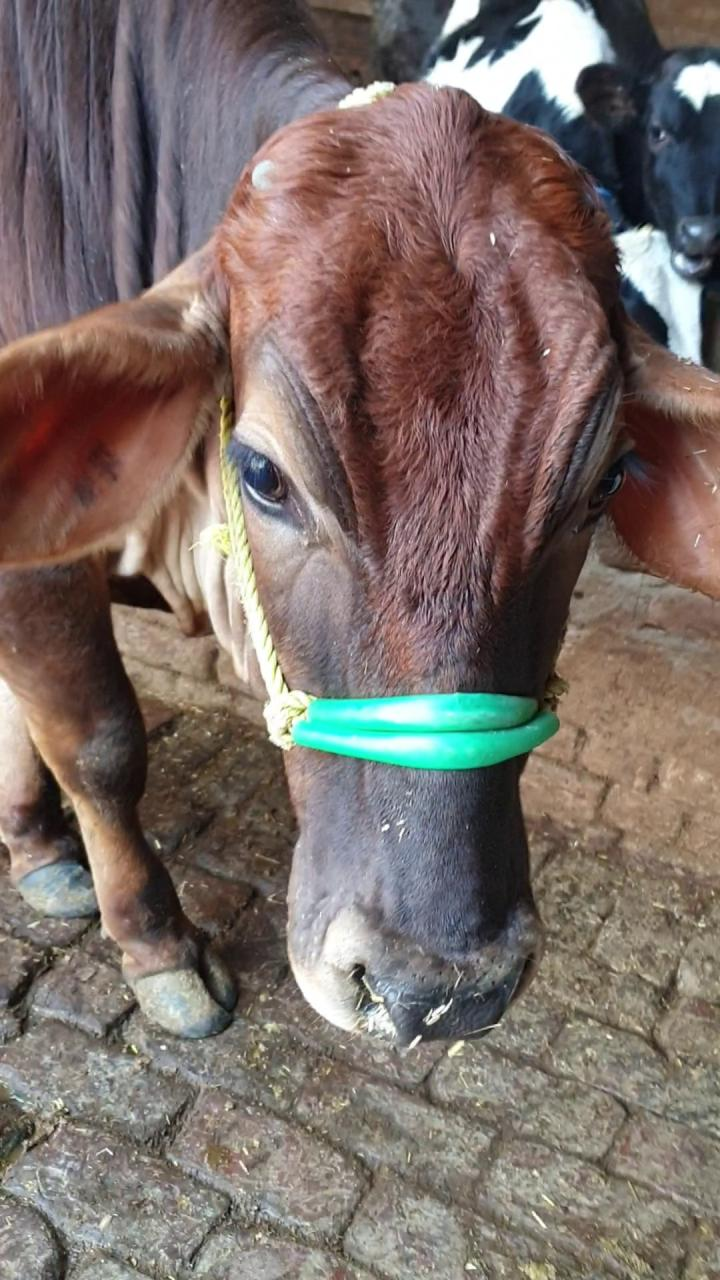cows: (208, 70, 635, 1073)
